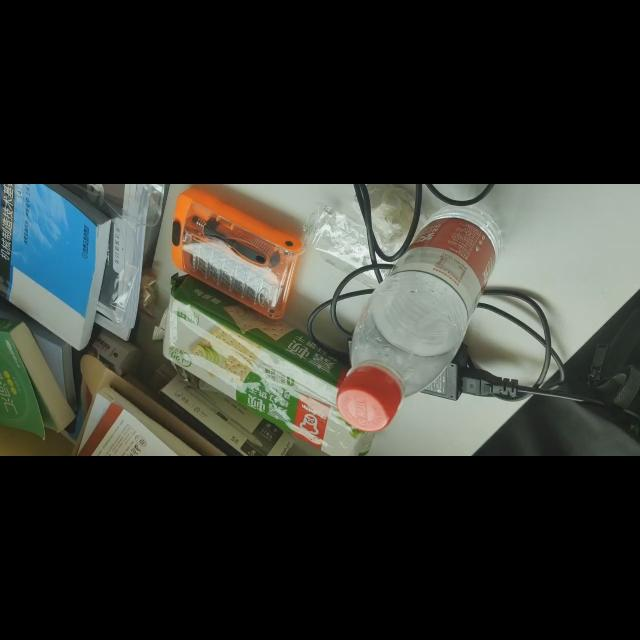trash: (336, 203, 504, 433)
